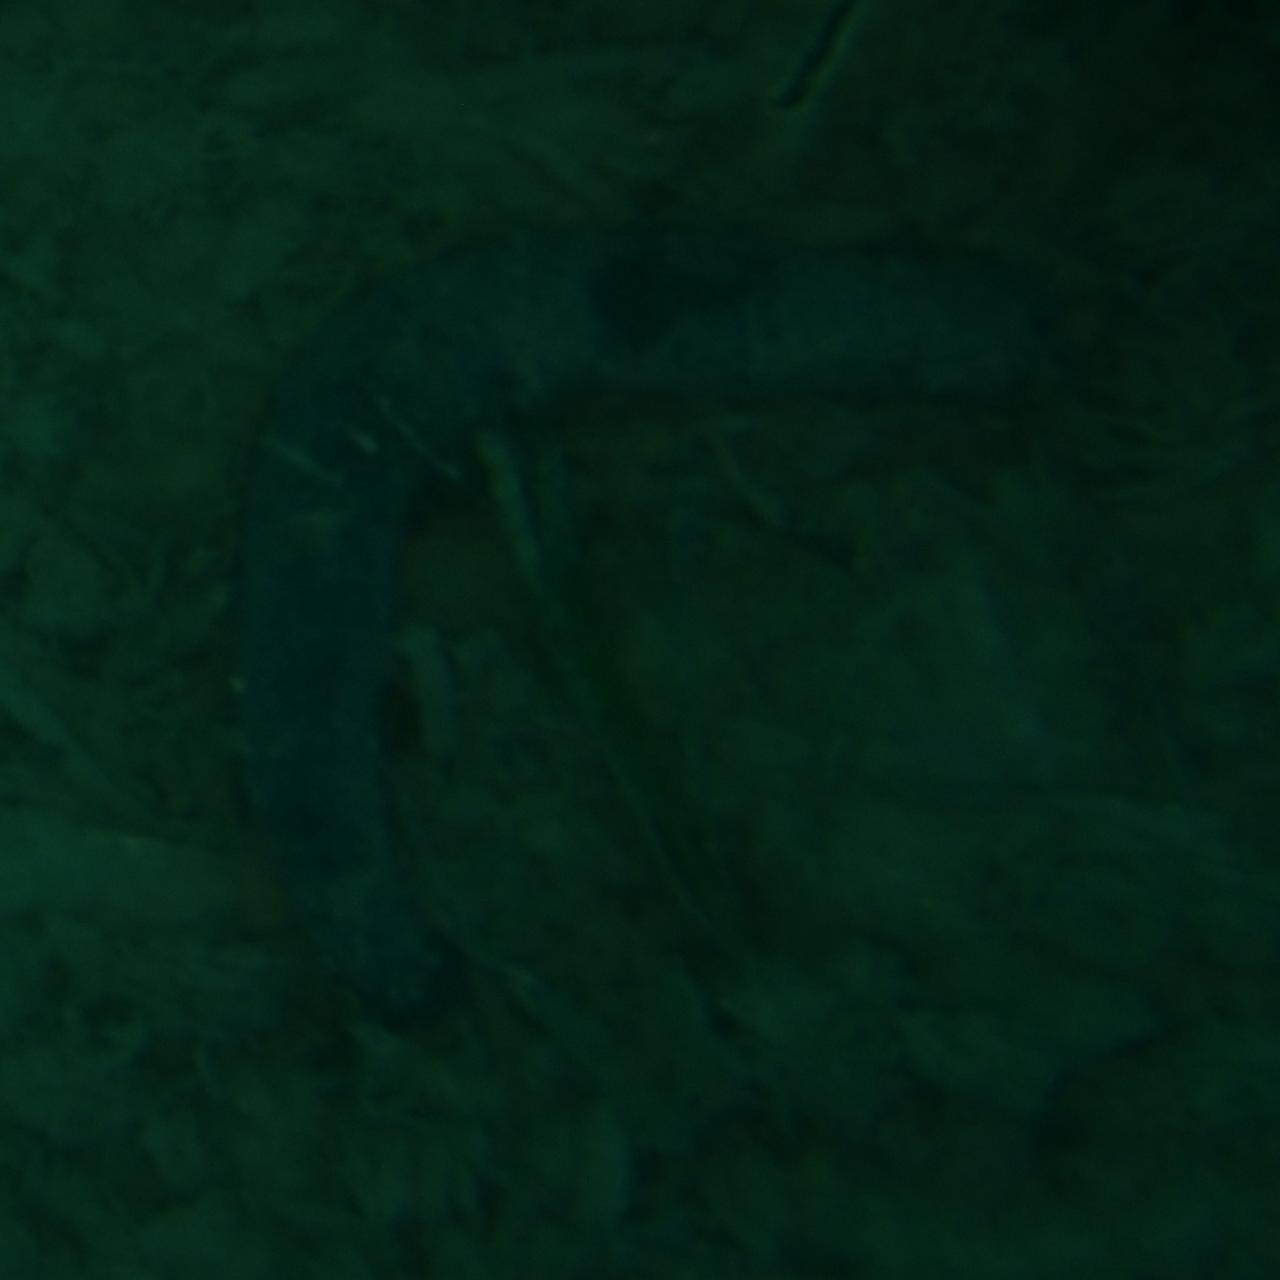Holothuria tubulosa: (224, 228, 1056, 1052)
